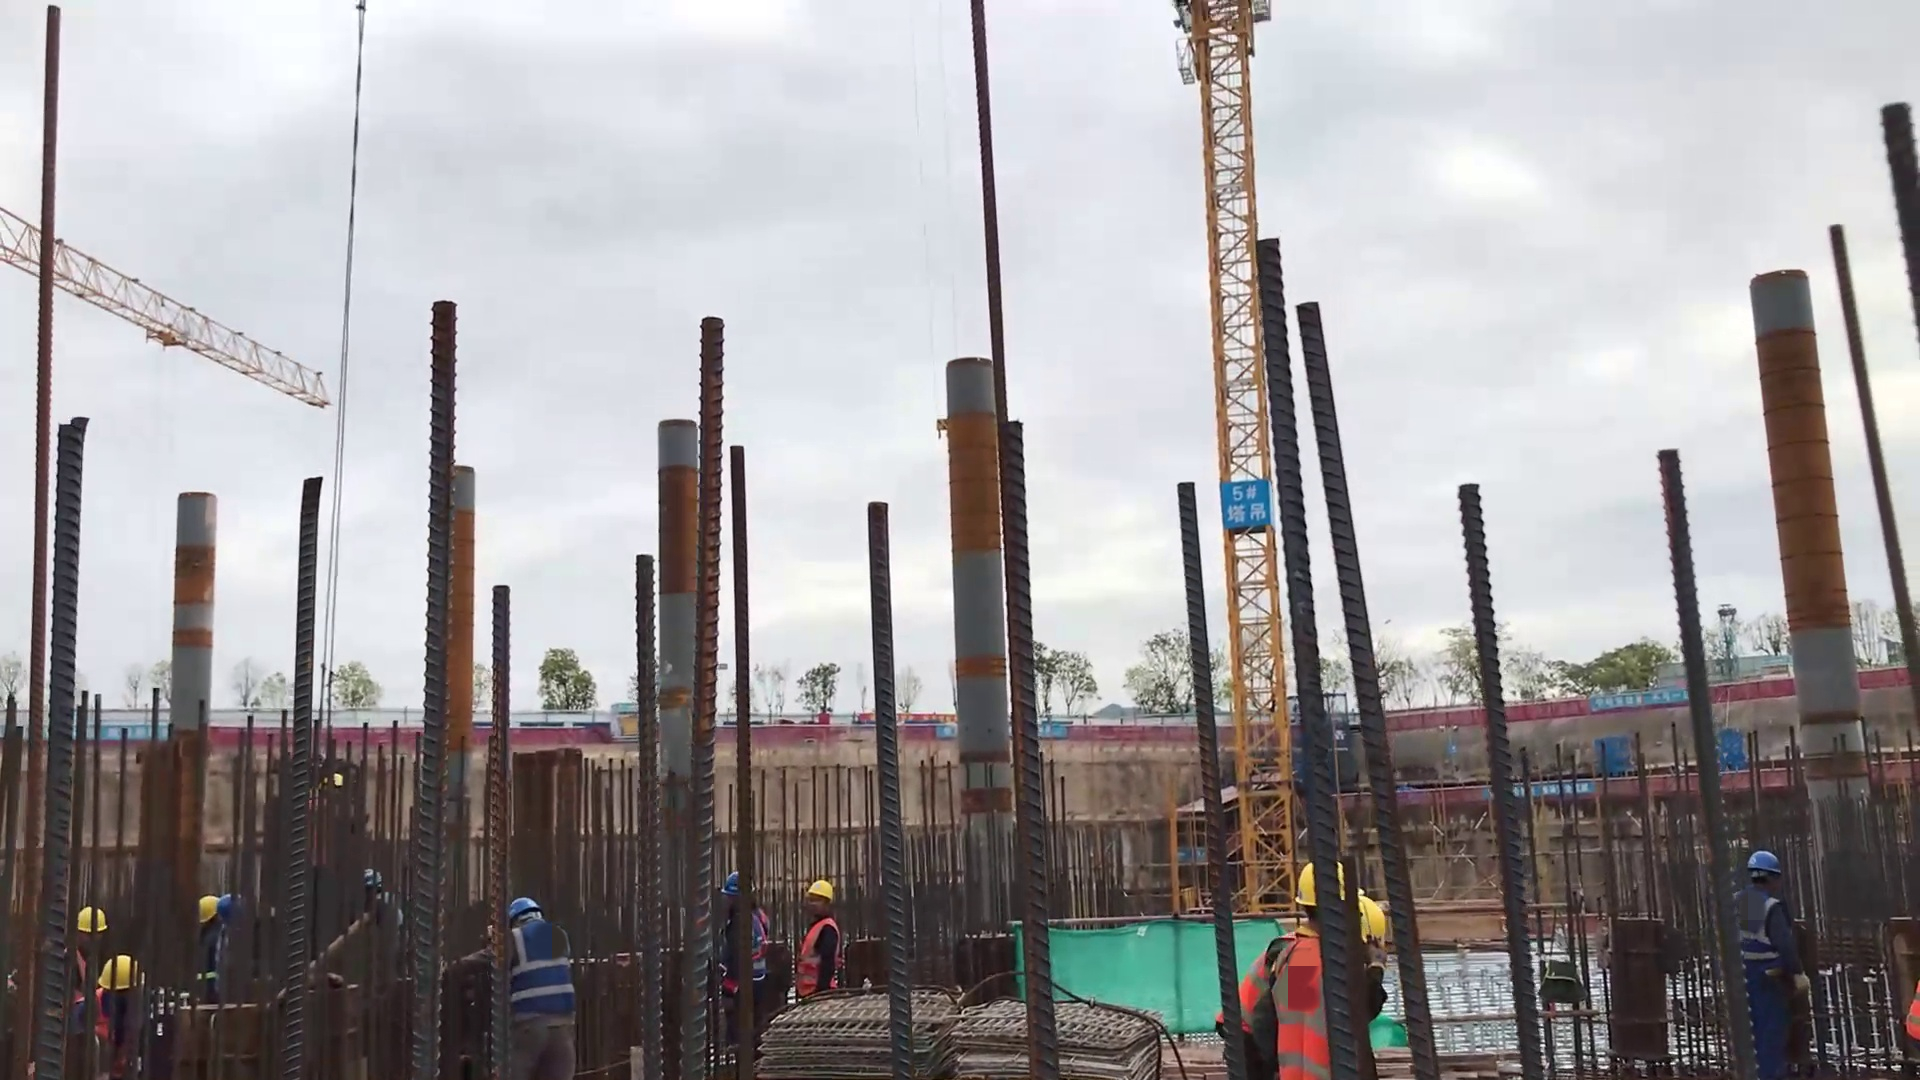helmet: (1283, 856, 1404, 967), (90, 944, 150, 991), (1742, 842, 1793, 882), (192, 892, 243, 924), (70, 904, 113, 938), (503, 897, 541, 929), (802, 877, 833, 906), (722, 869, 751, 898), (359, 868, 385, 899)
person: (1202, 856, 1390, 1080), (1726, 846, 1827, 1080), (465, 897, 579, 1080), (64, 898, 152, 1068), (188, 891, 295, 1003), (330, 863, 408, 1004), (713, 867, 773, 1028), (796, 878, 846, 1017)
vest: (1214, 925, 1347, 1080), (499, 923, 576, 1028), (1730, 885, 1800, 994), (805, 922, 849, 1003)
